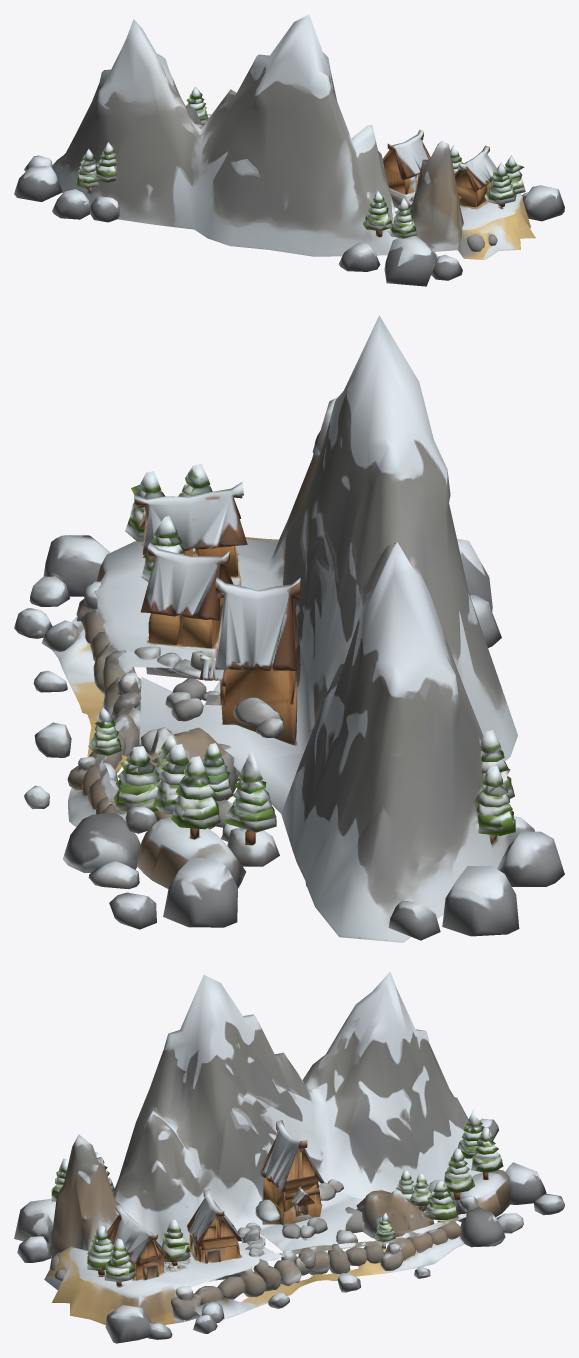
File: isle_08_p1.glb
The picture shows the model from 3 angles, top to bottom: view 1: azimuth 30°, elevation 25°; view 2: azimuth 150°, elevation 25°; view 3: azimuth 270°, elevation 25°; orthographic projection. The views are drawn at different scales.
Parts seen in each view (by area): view 1: tripo_node_7c99171c-94eb-427f-9f29-499f6751c6b9; view 2: tripo_node_7c99171c-94eb-427f-9f29-499f6751c6b9; view 3: tripo_node_7c99171c-94eb-427f-9f29-499f6751c6b9.
Boxes of the visible parts, x1=… form: tripo_node_7c99171c-94eb-427f-9f29-499f6751c6b9: x1=14, y1=14, x2=564, y2=286; tripo_node_7c99171c-94eb-427f-9f29-499f6751c6b9: x1=14, y1=315, x2=564, y2=942; tripo_node_7c99171c-94eb-427f-9f29-499f6751c6b9: x1=14, y1=972, x2=564, y2=1343.
Bounding box in the file's own units: 0.9512 × 0.5098 × 0.998.
Materials: 1 (1 with a texture image).
